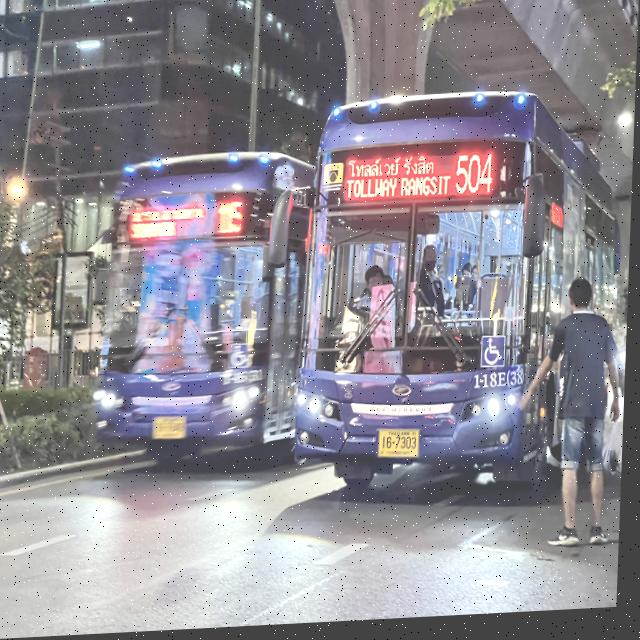Bus-Line-Number: (453, 154, 497, 207), (211, 199, 253, 240)
Destination-Sign-Normal: (344, 157, 455, 208), (131, 204, 211, 244)
TSB-Bus: (289, 82, 629, 513), (83, 140, 315, 475)
